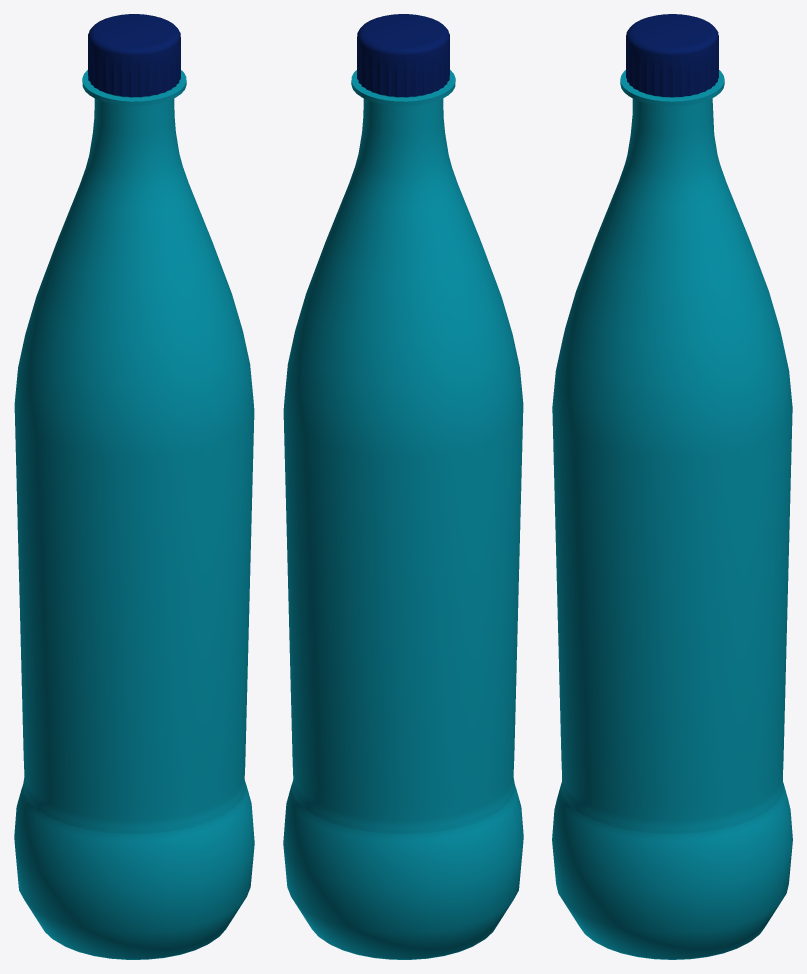
Rendered from bottle.glb.
The picture shows the model from 3 angles, left to right: view 1: azimuth 30°, elevation 25°; view 2: azimuth 150°, elevation 25°; view 3: azimuth 270°, elevation 25°; orthographic projection.
Visible parts, largest first — view 1: Bottle; view 2: Bottle; view 3: Bottle.
Boxes of the visible parts, x1=… form: Bottle: x1=14, y1=14, x2=254, y2=959; Bottle: x1=283, y1=14, x2=523, y2=959; Bottle: x1=552, y1=14, x2=792, y2=959.
Bounding box in the file's own units: 0.0885 × 0.361 × 0.0885.
